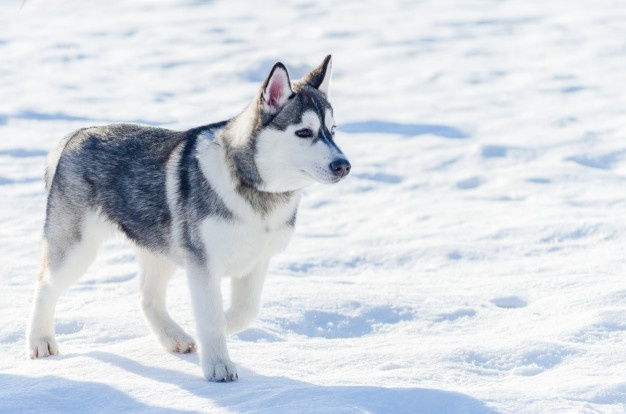husky: (21, 33, 363, 360)
